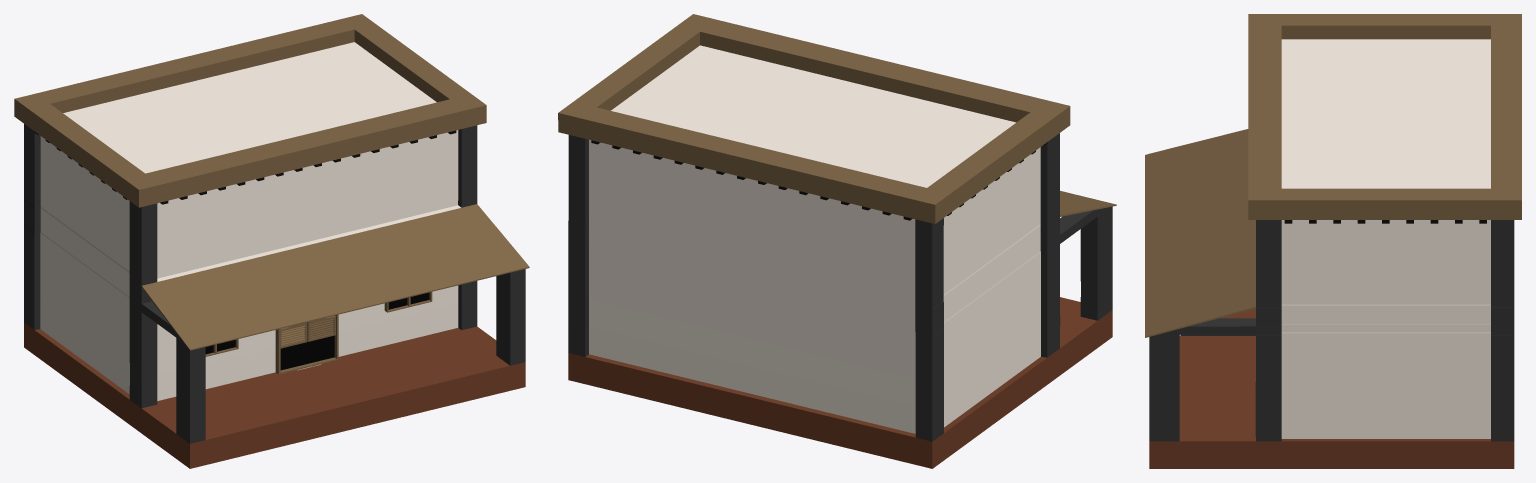
The model's file is Bank.fbx.
3 views of the same model, side by side, from view 1: azimuth 30°, elevation 25°; view 2: azimuth 150°, elevation 25°; view 3: azimuth 270°, elevation 25° (orthographic). The views are drawn at different scales.
Visible parts, largest first — view 1: Cube, Plane, Cube.002; view 2: Cube; view 3: Cube.
Boxes of the visible parts, x1=… form: Cube: x1=14, y1=14, x2=529, y2=468; Plane: x1=280, y1=335, x2=334, y2=370; Cube.002: x1=275, y1=314, x2=338, y2=374; Cube: x1=558, y1=14, x2=1116, y2=468; Cube: x1=1145, y1=14, x2=1521, y2=468.
Bounding box in the file's own units: 2900 × 1973 × 2479.
